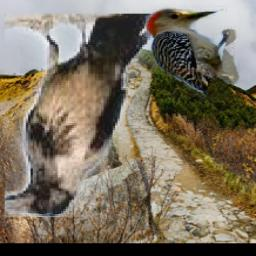Crow: (5, 14, 157, 217)
Woodpecker: (127, 3, 238, 101)
